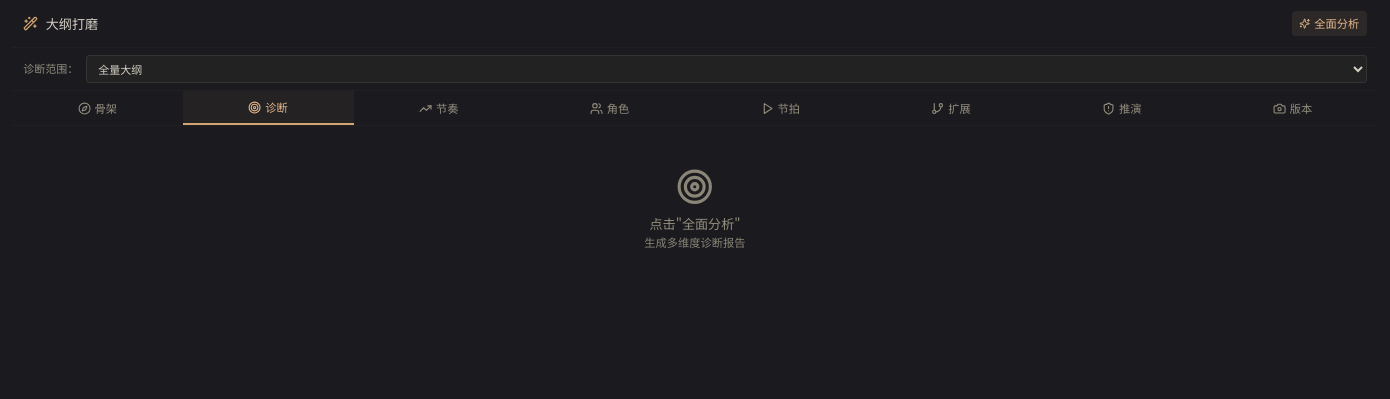
Test: OutlinePolishPanel › 已锁定时显示驱动信息 + 解锁按钮 + 生成冲突罗盘按钮
Click the button "骨架". click: [97, 108]
box: [12,91,183,125]
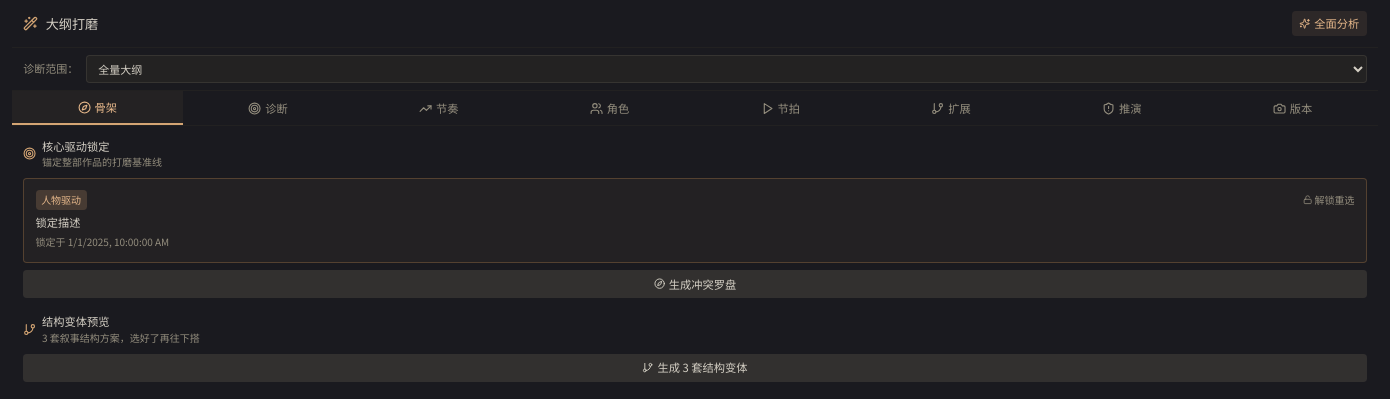
expect the text "人物驱动" is shown: met, box [36,190,87,210]
expect the text "锁定描述" is shown: met, box [36,214,80,230]
expect the button "生成冲突罗盘" is shown: met, box [23,270,1367,298]
